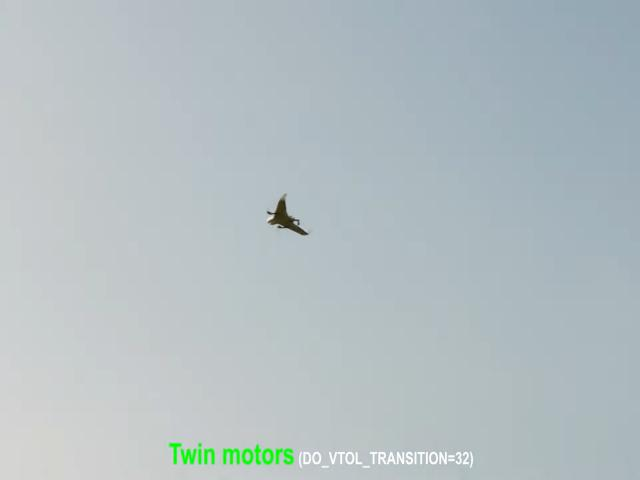plane: (266, 192, 310, 238)
